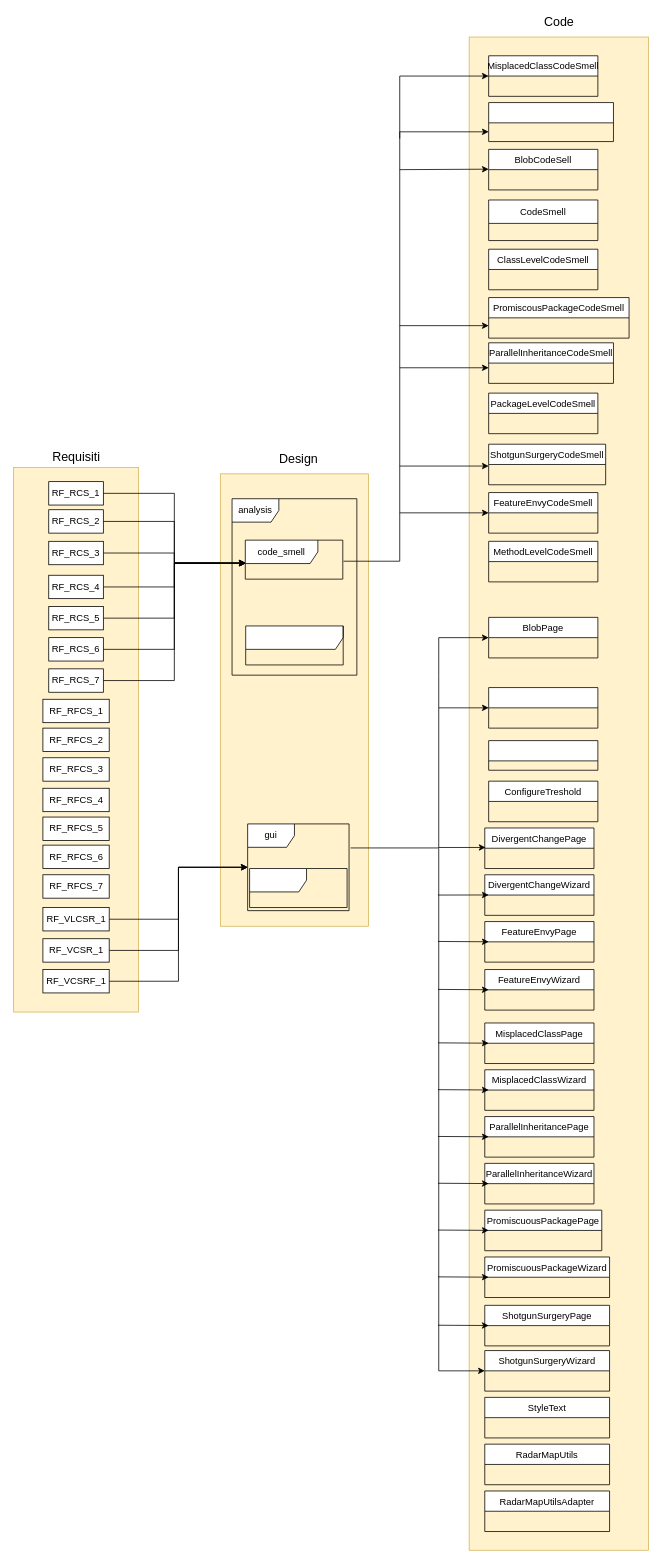
This 662x1564 diagram has some shape labels left out. Each missing label, with the centre of its shape:
BlobWizard: point 543,707
CheckProjectPage: point 543,755
code_smell_detection: point 294,645
DivergentChangeCodeSmell: point 550,122
radar: point 298,888
